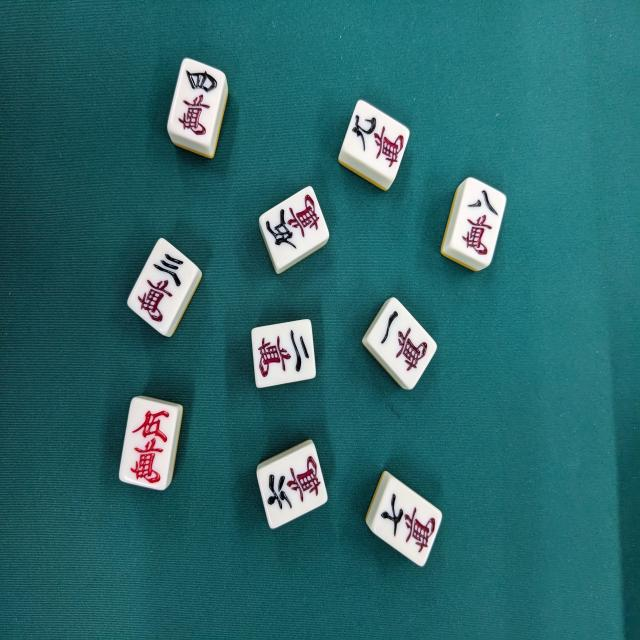1m: (361, 299, 437, 392)
2m: (250, 319, 318, 391)
3m: (127, 239, 202, 339)
4m: (166, 59, 229, 160)
5m: (258, 188, 330, 276)
6m: (255, 439, 329, 532)
7m: (364, 472, 443, 569)
8m: (440, 178, 508, 274)
9m: (338, 100, 410, 193)
D5m: (117, 397, 183, 493)
